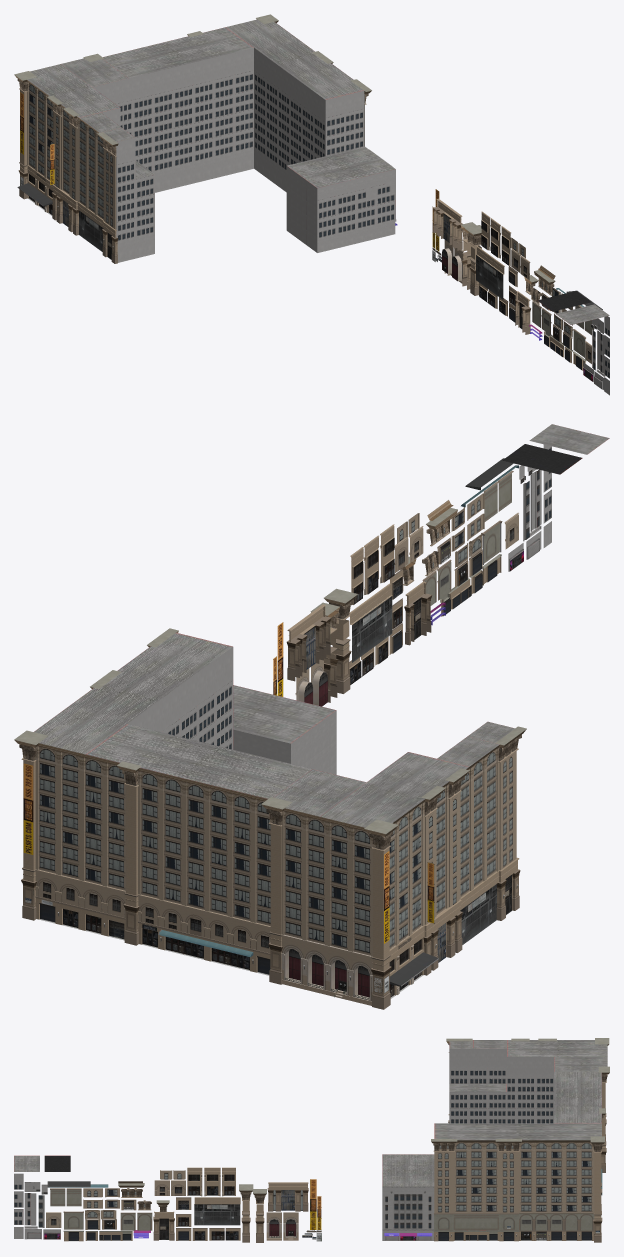
Rendered from bulding_pacific_electric_lofts_low_poly.glb.
The picture shows the model from 3 angles, top to bottom: view 1: azimuth 30°, elevation 25°; view 2: azimuth 150°, elevation 25°; view 3: azimuth 270°, elevation 25°; orthographic projection. The views are drawn at different scales.
Visible parts, largest first — view 1: Object_4, Object_14; view 2: Object_14, Object_4; view 3: Object_4, Object_14.
Boxes of the visible parts, x1=… form: Object_4: x1=17, y1=19, x2=609, y2=395; Object_14: x1=14, y1=14, x2=591, y2=370; Object_14: x1=14, y1=493, x2=526, y2=1009; Object_4: x1=34, y1=424, x2=609, y2=986; Object_4: x1=14, y1=1040, x2=607, y2=1240; Object_14: x1=46, y1=1038, x2=609, y2=1242.
Bounding box in the file's own units: 77.01 × 34.4 × 182.
2 materials, 2 textured.
